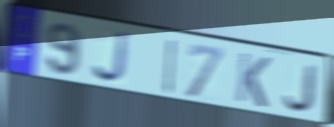7: (188, 42, 226, 100)
9: (45, 21, 82, 78)
I: (162, 37, 178, 96)
J: (91, 30, 131, 86), (282, 62, 320, 114)
K: (234, 50, 273, 110)
